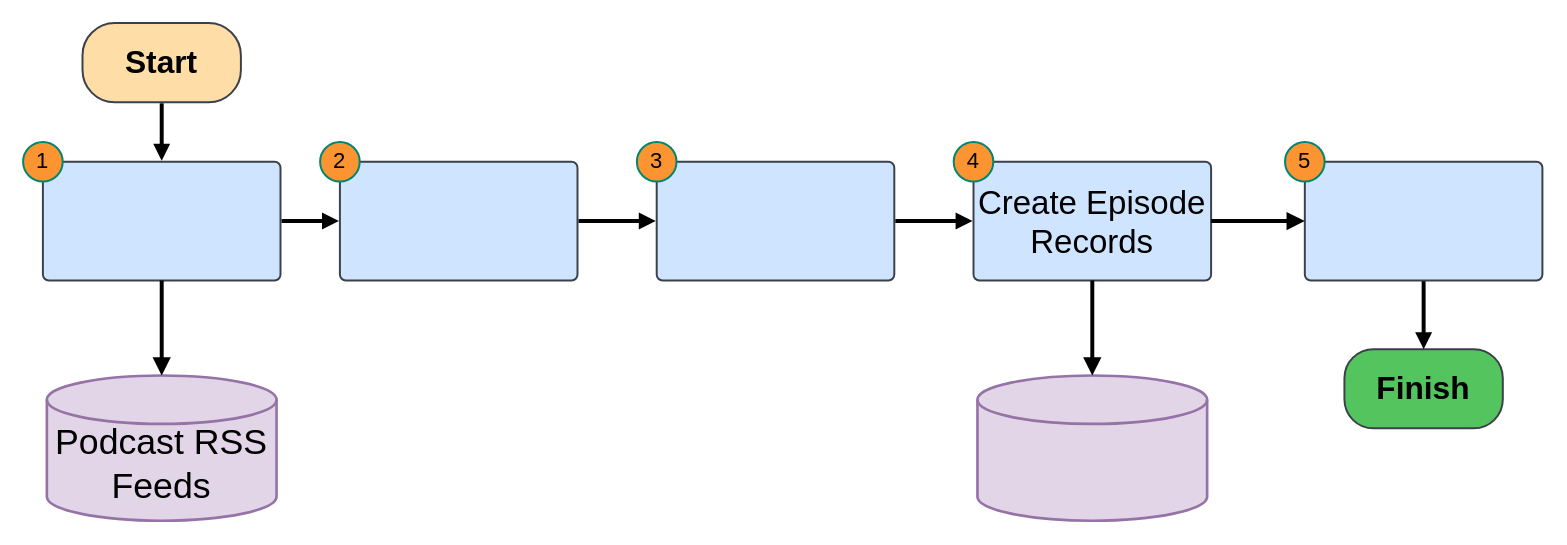
The diagram is 1567 pixels wide and 545 high, and some of its shapes have lost their labels. Here are the shapes that lost their labels. From the top down, the box of each, then its label:
(41, 160, 281, 281): Collect RSS Feeds
(338, 160, 578, 281): Parse RSS XML Feed
(655, 160, 895, 281): Filter for Episodes
(1303, 160, 1543, 281): Repeat Process
(975, 374, 1208, 521): Podcast Episodes
